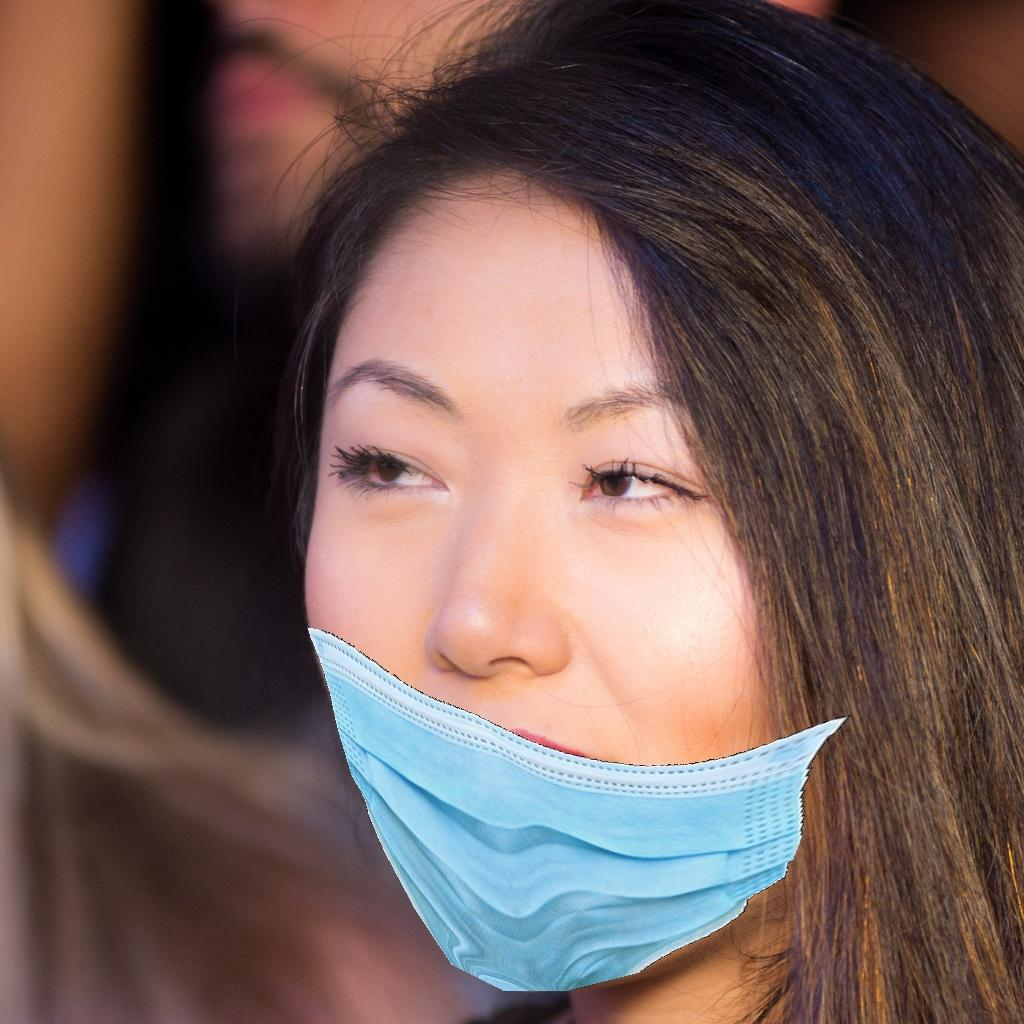Com Máscara: (278, 343, 869, 952)
